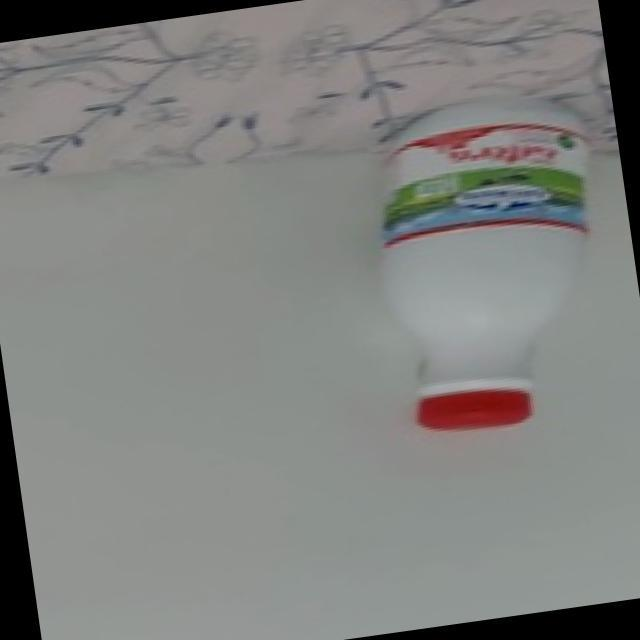good: (340, 31, 632, 455)
